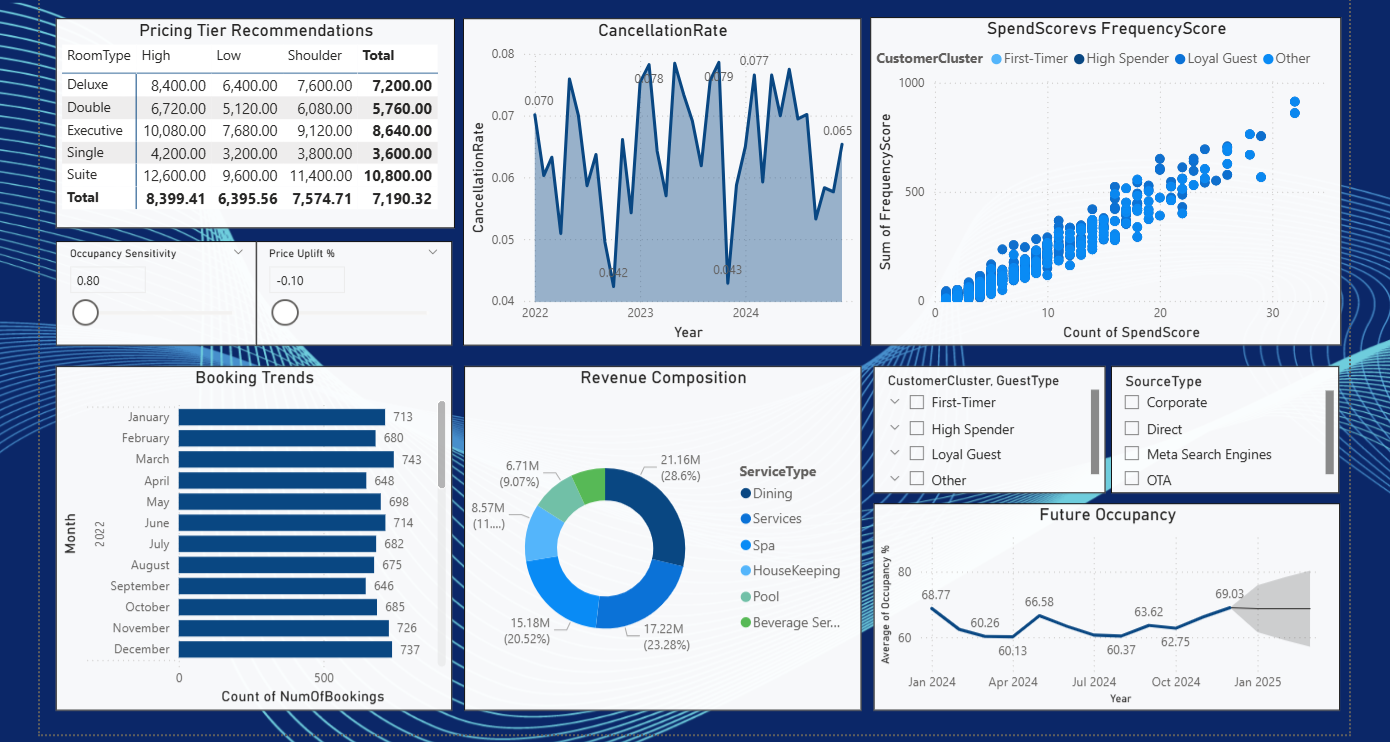

The page's visual inventory and layout, read from the dashboard file:
{"tool":"powerbi","page":{"name":"RM Dashboard","canvas":[1280,720],"ordinal":11},"visuals":[{"type":"pivotTable","title":"Pricing Tier Recommendations","fields":{"Rows":["Room.RoomType"],"Values":["Bookings.Recommended Price"],"Columns":["Date.Season"]},"box":[12.4,38.6,390.6,205.3],"z":0},{"type":"slicer","fields":{"Values":["Price Uplift %.Price Uplift %"]},"box":[210.2,257.5,192.8,102],"z":1000},{"type":"textbox","box":[48.5,0,1222.8,38.6],"z":2000},{"type":"lineChart","title":"Future Occupancy","fields":{"Y":["Avg(Tbl_Calculation.Occupancy %)"],"Category":["Tbl_Calculation.StayDate.Variation.Date Hierarchy.Year","Tbl_Calculation.StayDate.Variation.Date Hierarchy.Month"]},"box":[811.1,506.3,460.3,190.3],"z":3000},{"type":"scatterChart","title":"SpendScorevs FrequencyScore ","fields":{"Y":["Sum(Tbl_Guests.FrequencyScore)"],"Category":["Tbl_Guests.RecencyScore"],"X":["CountNonNull(Tbl_Guests.SpendScore)"],"Series":["Bookings.CustomerCluster"]},"box":[811.1,38.6,460.3,320.9],"z":4000},{"type":"slicer","fields":{"Values":["Occupancy Sensitivity.Occupancy Sensitivity"]},"box":[11.2,257.5,196.5,102],"z":5000},{"type":"areaChart","title":"CancellationRate","fields":{"Category":["Bookings.MonthStart.Variation.Date Hierarchy.Year","Bookings.MonthStart.Variation.Date Hierarchy.Month"],"Y":["Bookings.CancellationRate"]},"box":[413,39.8,389.4,319.7],"z":6000},{"type":"slicer","fields":{"Values":["Bookings.CustomerCluster","Bookings.GuestType"]},"box":[811.1,371.9,230.1,124.4],"z":7000},{"type":"donutChart","title":"Revenue Composition","fields":{"Y":["Sum(Ancillary_Transactions.Amount)"],"Category":["Ancillary_Transactions.ServiceType"]},"box":[413,379.4,389.4,317.2],"z":8000},{"type":"slicer","fields":{"Values":["Bookings.SourceType"]},"box":[1046.2,371.9,225.2,124.4],"z":9000},{"type":"clusteredBarChart","title":"Booking Trends","fields":{"Category":["Bookings.MonthStart.Variation.Date Hierarchy.Year","Bookings.MonthStart.Variation.Date Hierarchy.Month"],"Y":["CountNonNull(Bookings.NumOfBookings)"]},"box":[11.2,378.2,391.8,318.5],"z":10000}]}

Visuals, with their boxes in screenshot pixels (x1, y1, x2, y2):
"Pricing Tier Recommendations" pivotTable: pyautogui.locateOnScreen(56, 18, 453, 226)
slicer - Price Uplift %.Price Uplift %: pyautogui.locateOnScreen(257, 240, 453, 344)
textbox: pyautogui.locateOnScreen(93, 0, 1336, 18)
"Future Occupancy" lineChart: pyautogui.locateOnScreen(868, 493, 1336, 686)
"SpendScorevs FrequencyScore " scatterChart: pyautogui.locateOnScreen(868, 18, 1336, 344)
slicer - Occupancy Sensitivity.Occupancy Sensitivity: pyautogui.locateOnScreen(55, 240, 255, 344)
"CancellationRate" areaChart: pyautogui.locateOnScreen(463, 19, 859, 344)
slicer - Bookings.CustomerCluster x Bookings.GuestType: pyautogui.locateOnScreen(868, 356, 1102, 483)
"Revenue Composition" donutChart: pyautogui.locateOnScreen(463, 364, 859, 686)
slicer - Bookings.SourceType: pyautogui.locateOnScreen(1107, 356, 1336, 483)
"Booking Trends" clusteredBarChart: pyautogui.locateOnScreen(55, 363, 453, 686)
